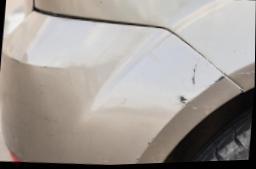Bumper: (0, 12, 246, 165)
Fender: (205, 17, 256, 90)
